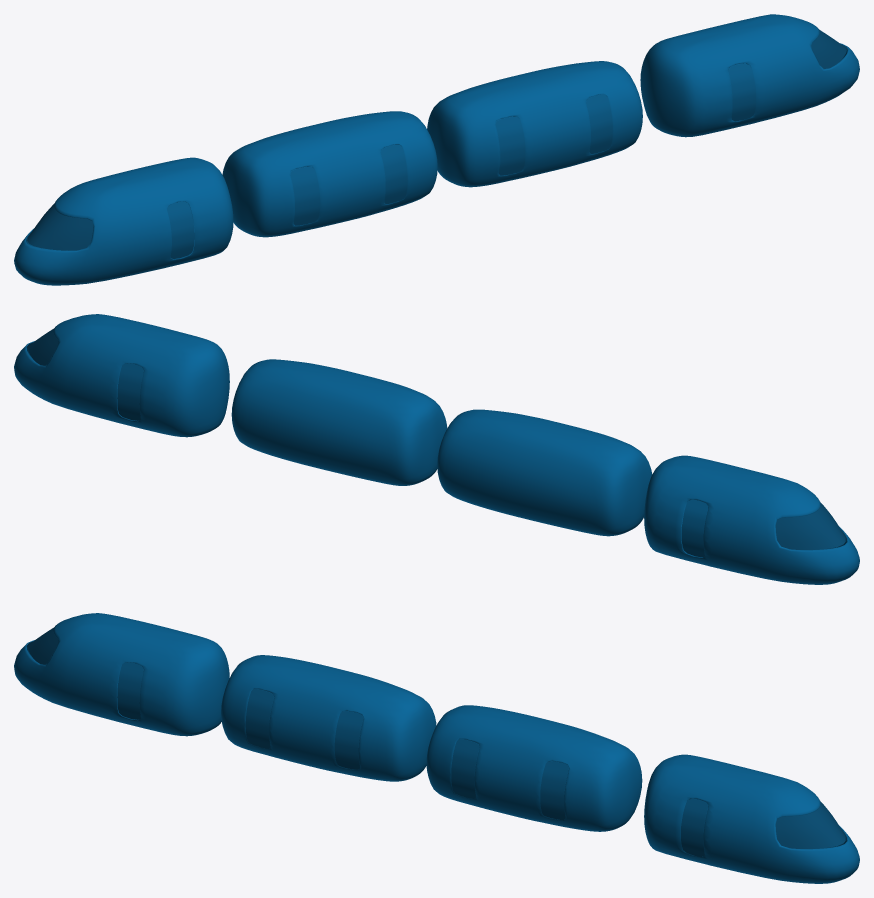
File: train.gltf
3 views of the same model, one above another, from view 1: azimuth 30°, elevation 25°; view 2: azimuth 150°, elevation 25°; view 3: azimuth 330°, elevation 25° (orthographic).
Visible parts, largest first — view 1: Sphere.023, Sphere.002, Sphere.021, Sphere.026, Sphere.025; view 2: Sphere.021, Sphere.023, Sphere.002, Sphere.026; view 3: Sphere.023, Sphere.021, Sphere.002, Sphere.026, Sphere.025.
Part boxes in pixels (x1,y1,x2,y2): Sphere.023: (427,61,642,187); Sphere.002: (14,157,233,285); Sphere.021: (222,111,437,237); Sphere.026: (640,14,859,137); Sphere.025: (728,63,755,121); Sphere.021: (437,409,652,536); Sphere.023: (231,359,447,485); Sphere.002: (644,455,859,584); Sphere.026: (14,314,229,437); Sphere.023: (426,705,642,831); Sphere.021: (221,655,436,781); Sphere.002: (14,613,229,736); Sphere.026: (644,754,859,883); Sphere.025: (681,798,707,856).
Bounding box in the file's own units: 26.51 × 2.51 × 3.02.
